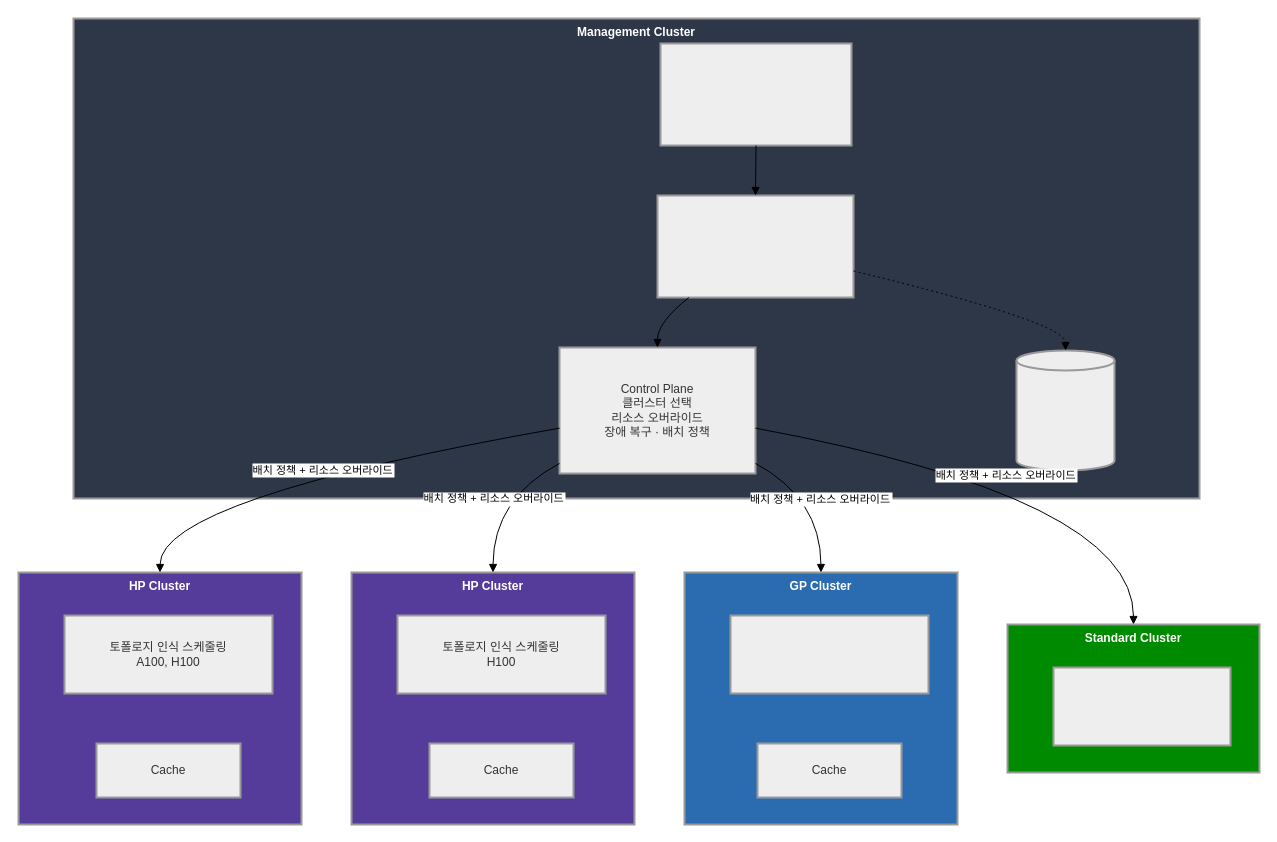
This 1277x842 diagram has some shape labels left out. The box of each missing label's shape, as (x1, y1, x2, y2) in pixels:
API Server 배포 관리 · 상태 조회 메트릭 · 로그: (656, 194, 854, 298)
PostgreSQL 메타데이터 감사 로그: (1015, 349, 1115, 471)
QoS 기반 · GPU 공유 L40S, T4, L4: (729, 614, 929, 694)
Web UI 대시보드 · 모델 배포 모니터링 · 정책 관리: (659, 42, 852, 146)
기본 K8s 스케줄링 Any GPU: (1052, 666, 1231, 746)
